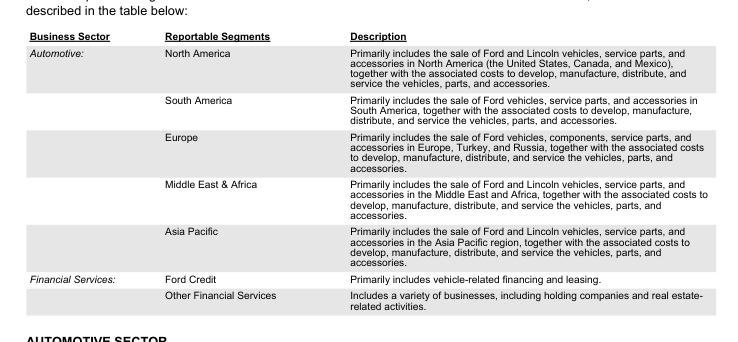table: (28, 29, 707, 310)
table column: (312, 29, 707, 310), (139, 29, 312, 310), (28, 29, 139, 310)
table column header: (28, 29, 707, 43)
table row: (28, 43, 707, 91), (28, 128, 707, 175), (28, 175, 707, 222), (28, 222, 707, 269), (28, 91, 707, 128), (28, 286, 707, 310), (28, 269, 707, 286), (28, 29, 707, 43)
table spanning cell: (28, 43, 139, 269), (28, 269, 139, 310)
